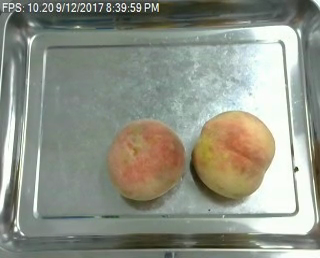Peach: (191, 109, 275, 198), (106, 118, 186, 198)
